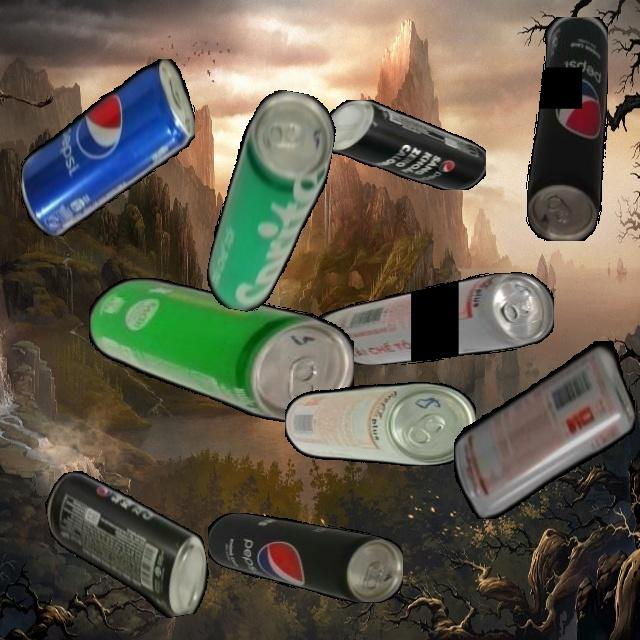debris: (88, 278, 354, 422), (202, 83, 341, 321), (453, 340, 635, 519), (41, 452, 215, 635), (20, 58, 195, 236), (317, 272, 554, 365), (525, 16, 608, 241), (207, 513, 403, 603), (284, 382, 476, 466), (312, 100, 486, 190)
